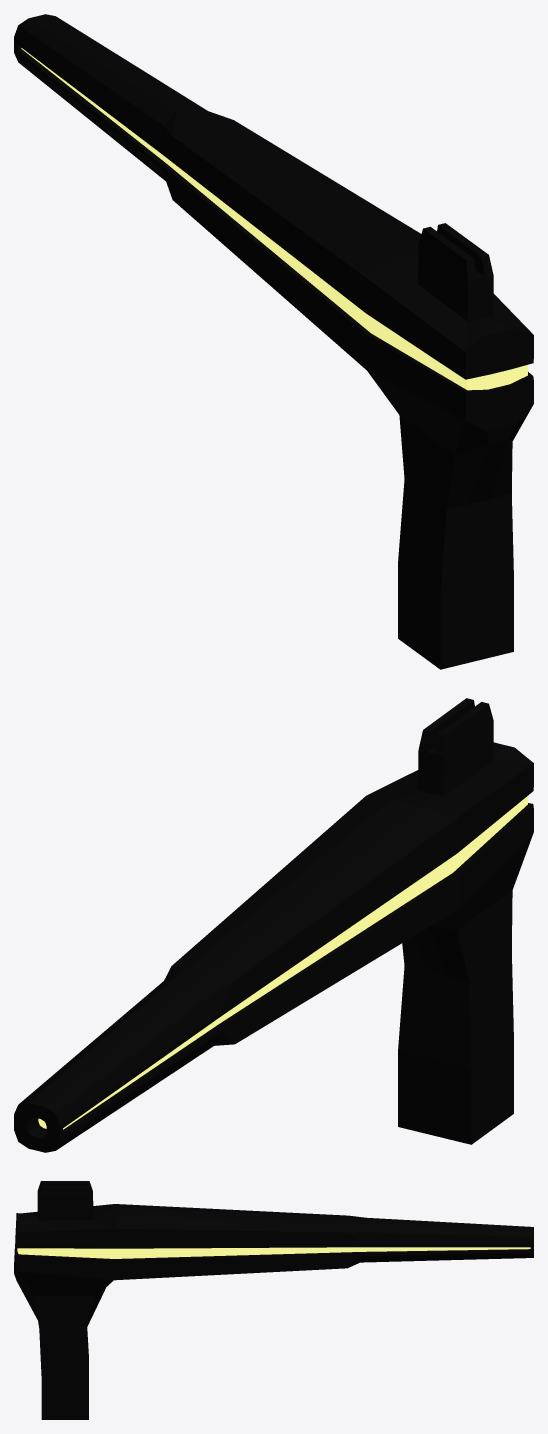
File: gun1.glb
The picture shows the model from 3 angles, top to bottom: view 1: azimuth 30°, elevation 25°; view 2: azimuth 150°, elevation 25°; view 3: azimuth 270°, elevation 25°; orthographic projection. The views are drawn at different scales.
Visible parts, largest first — view 1: Cube; view 2: Cube; view 3: Cube.
Part boxes in pixels (x1=…): Cube: x1=14, y1=14, x2=533, y2=669; Cube: x1=14, y1=698, x2=533, y2=1152; Cube: x1=14, y1=1181, x2=533, y2=1419.
Size of the model in its own units: 2.48 by 10.5 by 21.92.
